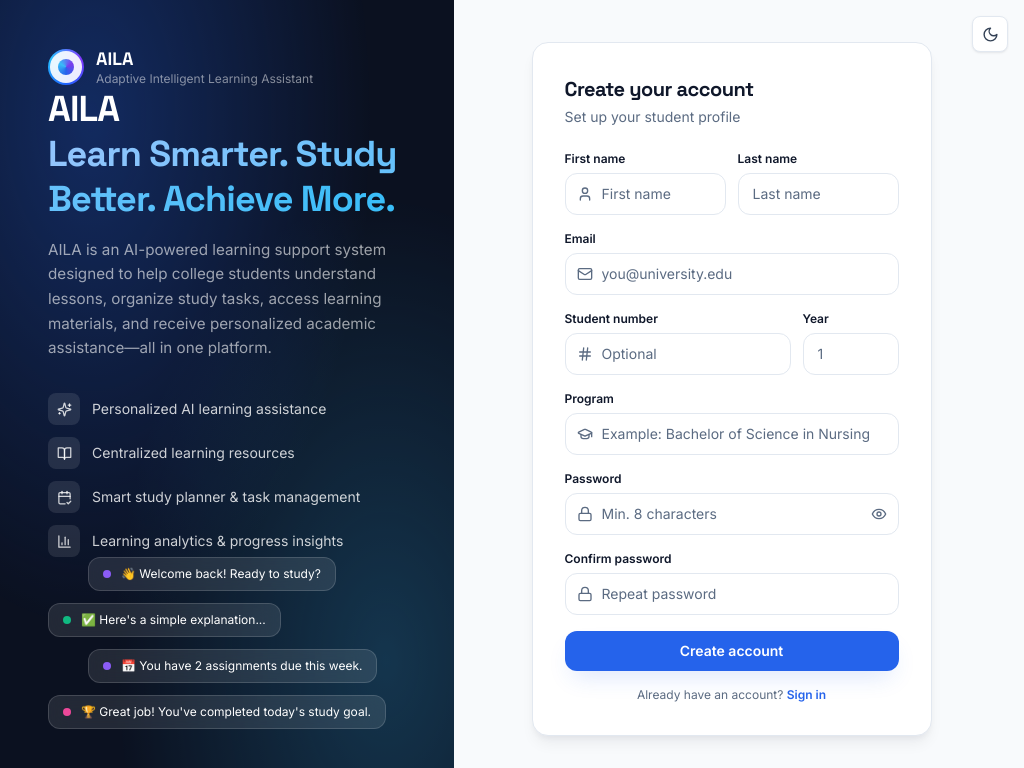
Test: RegisterPage › a registration failure (e.g. duplicate email) keeps the form visible with an error, no panel switch
In the field with placeholder "First name": (645, 194) [564, 172, 726, 214], type "Ada"
In the field with placeholder "Last name": (818, 194) [738, 172, 898, 214], type "Lovelace"
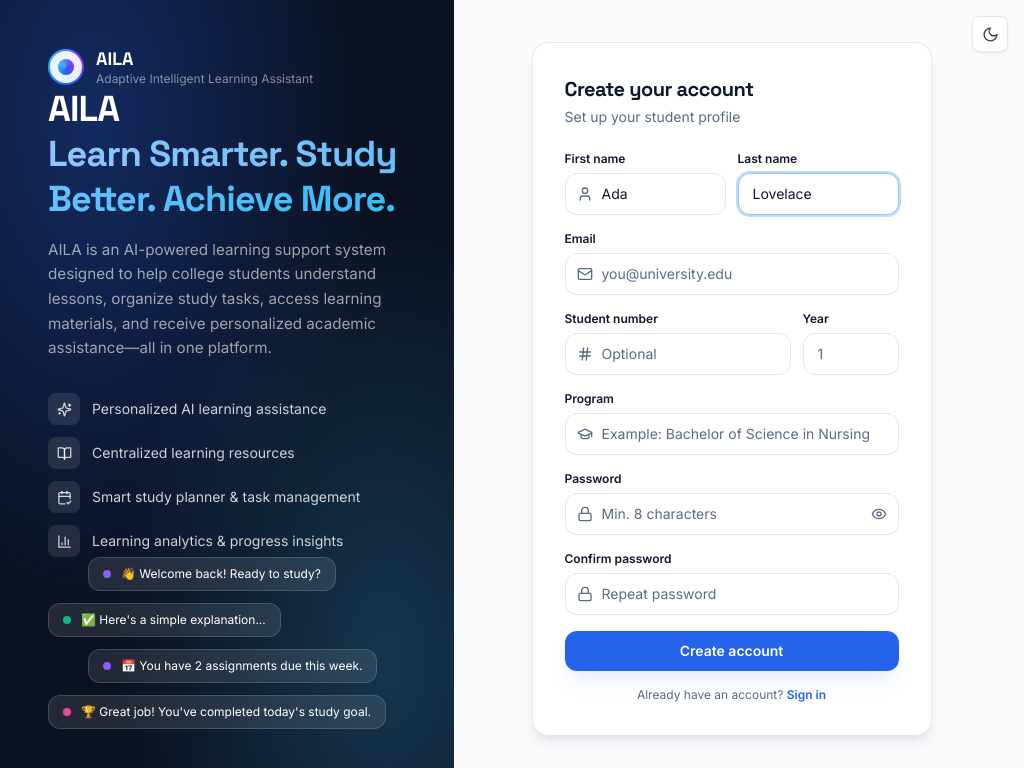
In the field with placeholder "you@university.edu": (732, 274) [564, 252, 898, 294], type "ada@example.com"
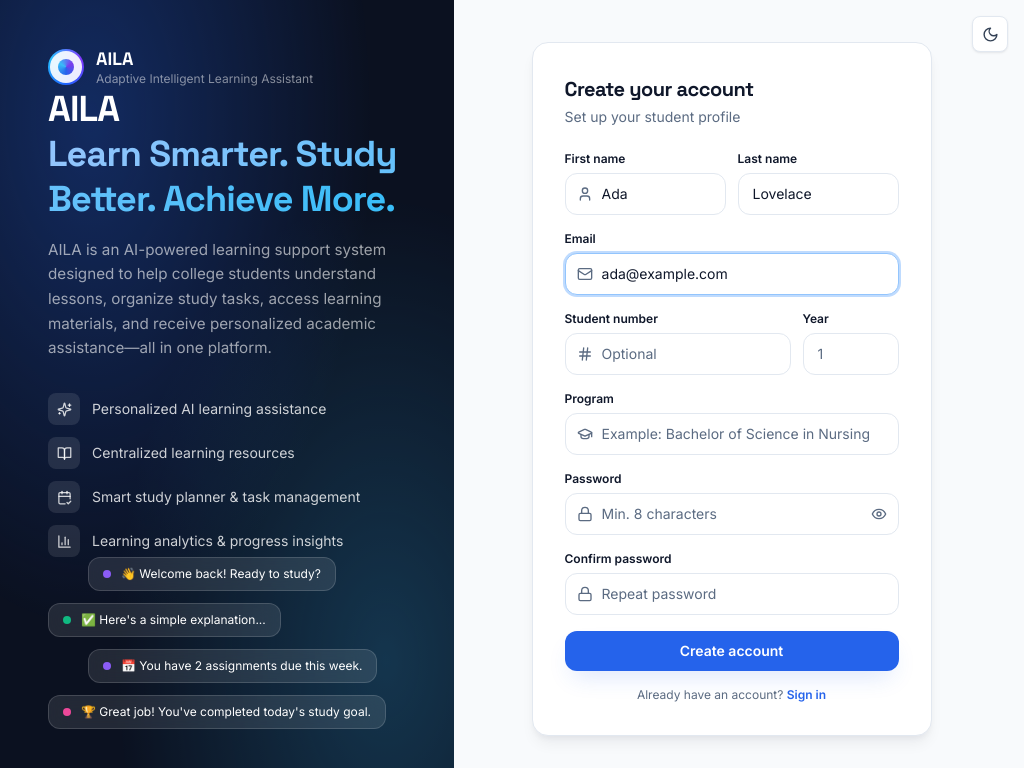
In the field with placeholder "Example: Bachelor of Science in Nursing": (732, 434) [564, 412, 898, 454], type "Computer Science"
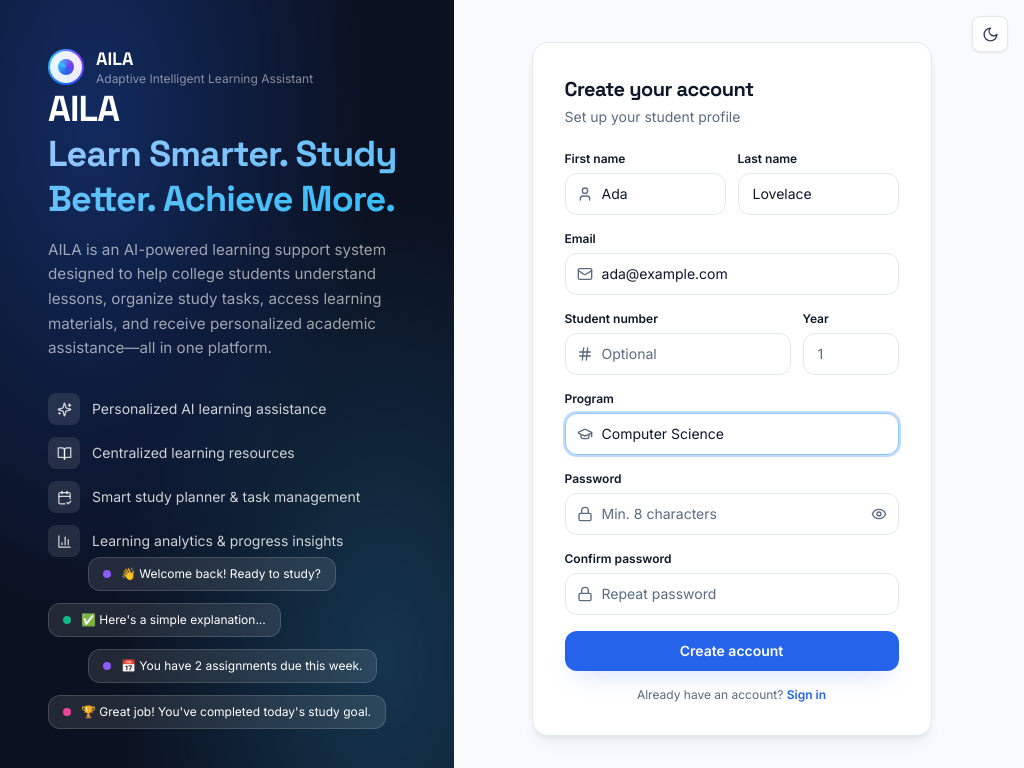
In the password field with placeholder "Min. 8 characters": (732, 514) [564, 492, 898, 534], type "Password1!"
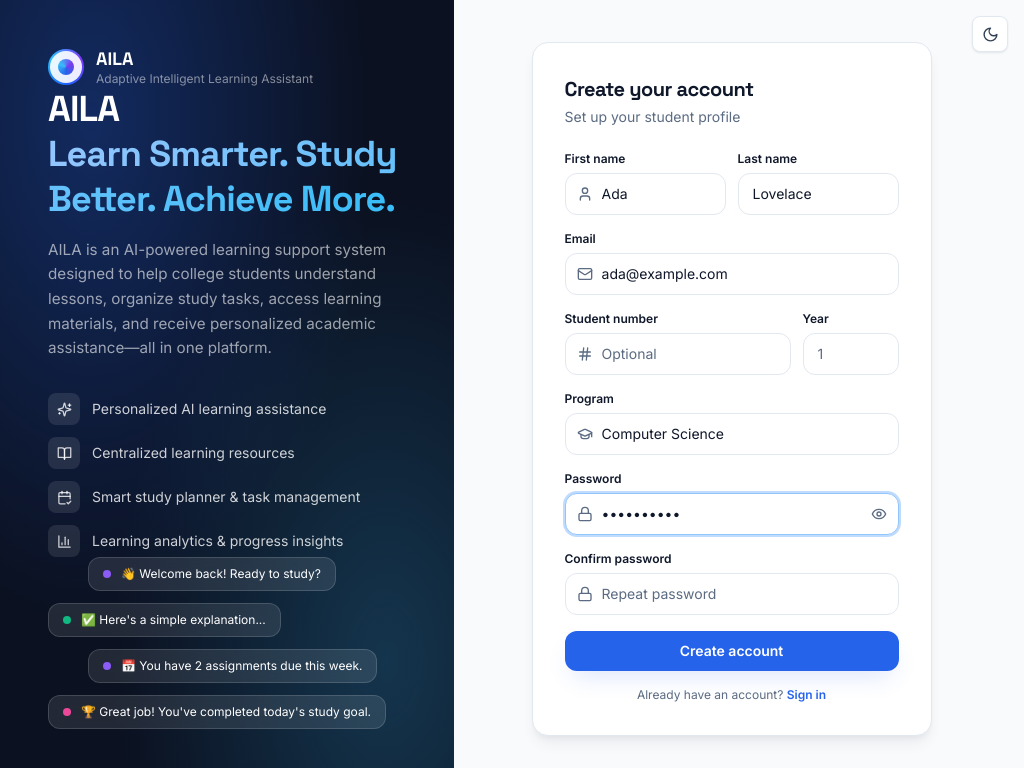
In the password field with placeholder "Repeat password": (732, 594) [564, 572, 898, 614], type "Password1!"
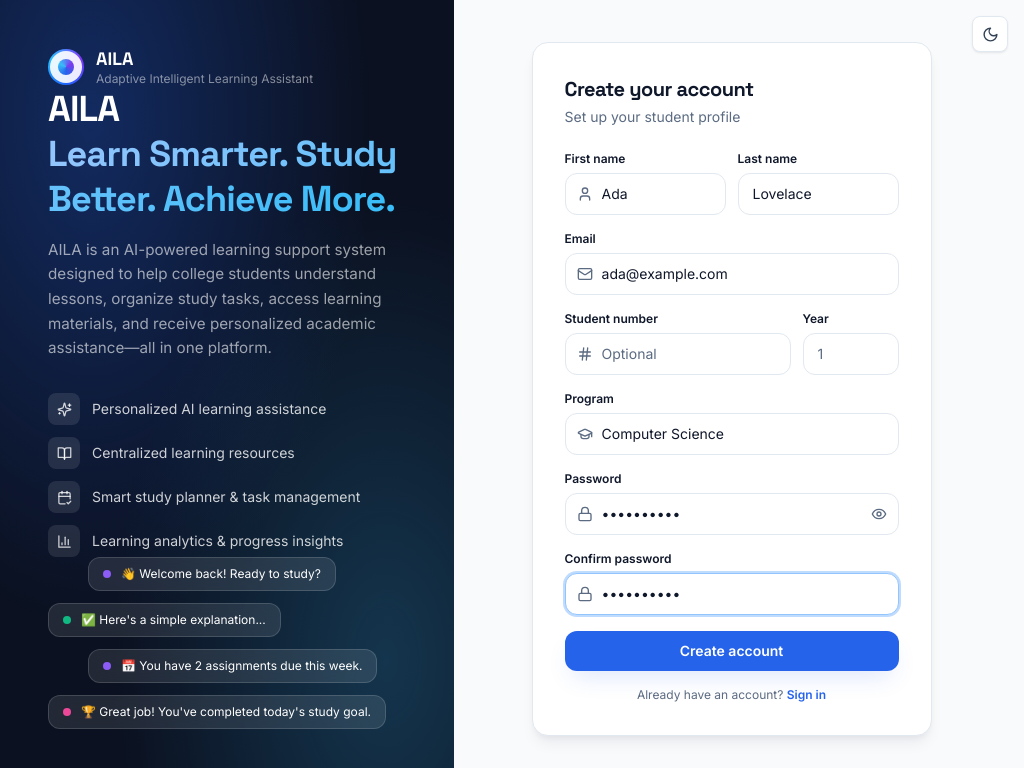
Click the button "Create account": (732, 650) [564, 630, 898, 670]
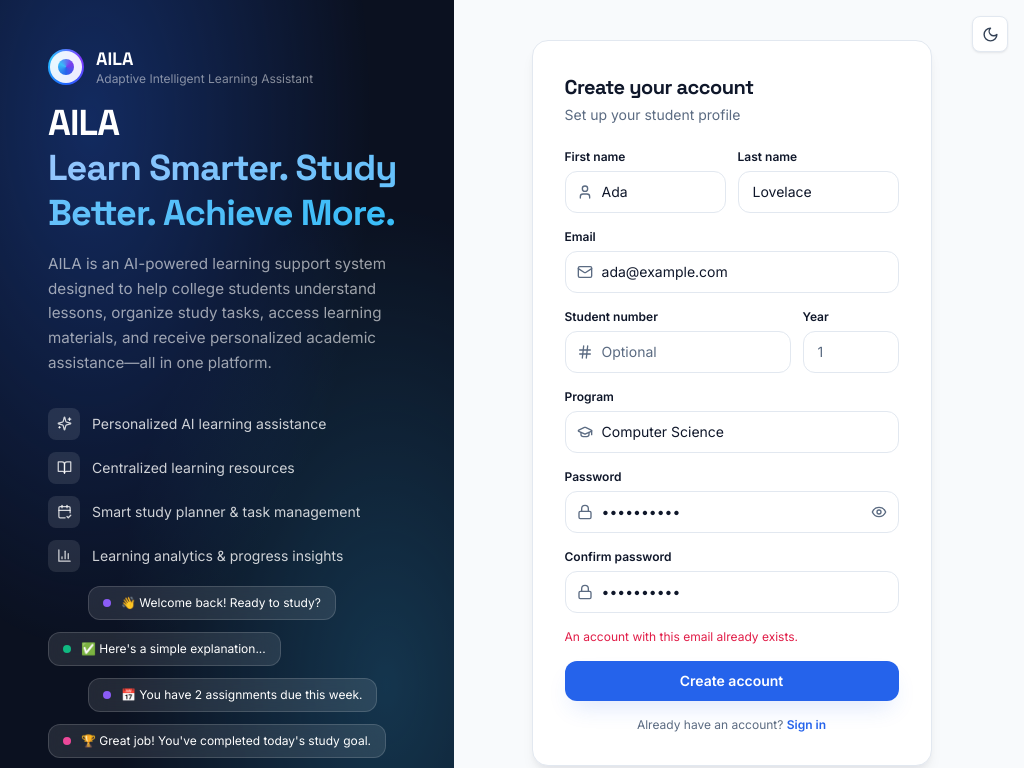
Expected: the button "Create account" is shown, [564, 661, 898, 701]
Expected: the text "An account with this email already exists." is shown, [564, 629, 798, 644]
